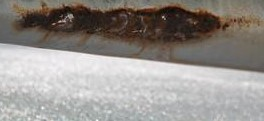Corrosion: (12, 1, 264, 49)
